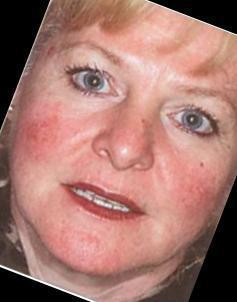Drunk: (32, 11, 219, 268)
